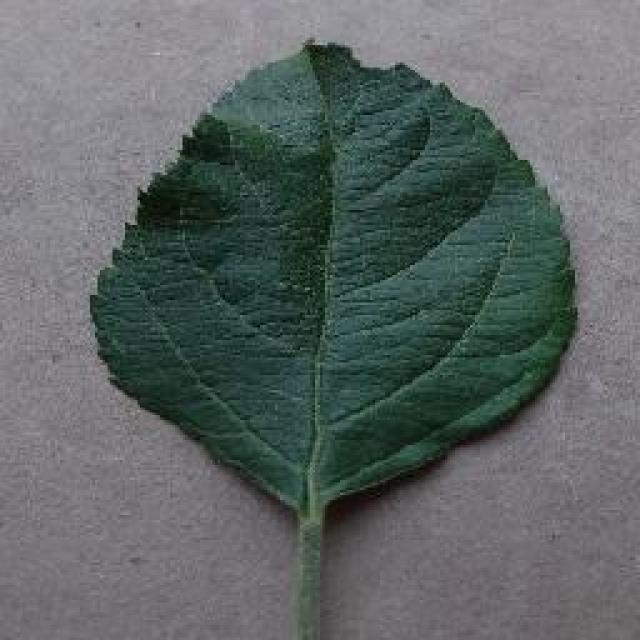apple healthy: (85, 35, 577, 637)
